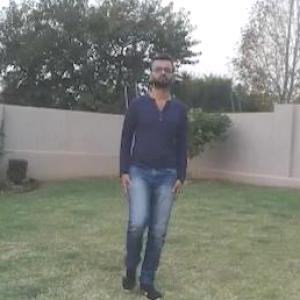follow: (115, 45, 188, 293)
